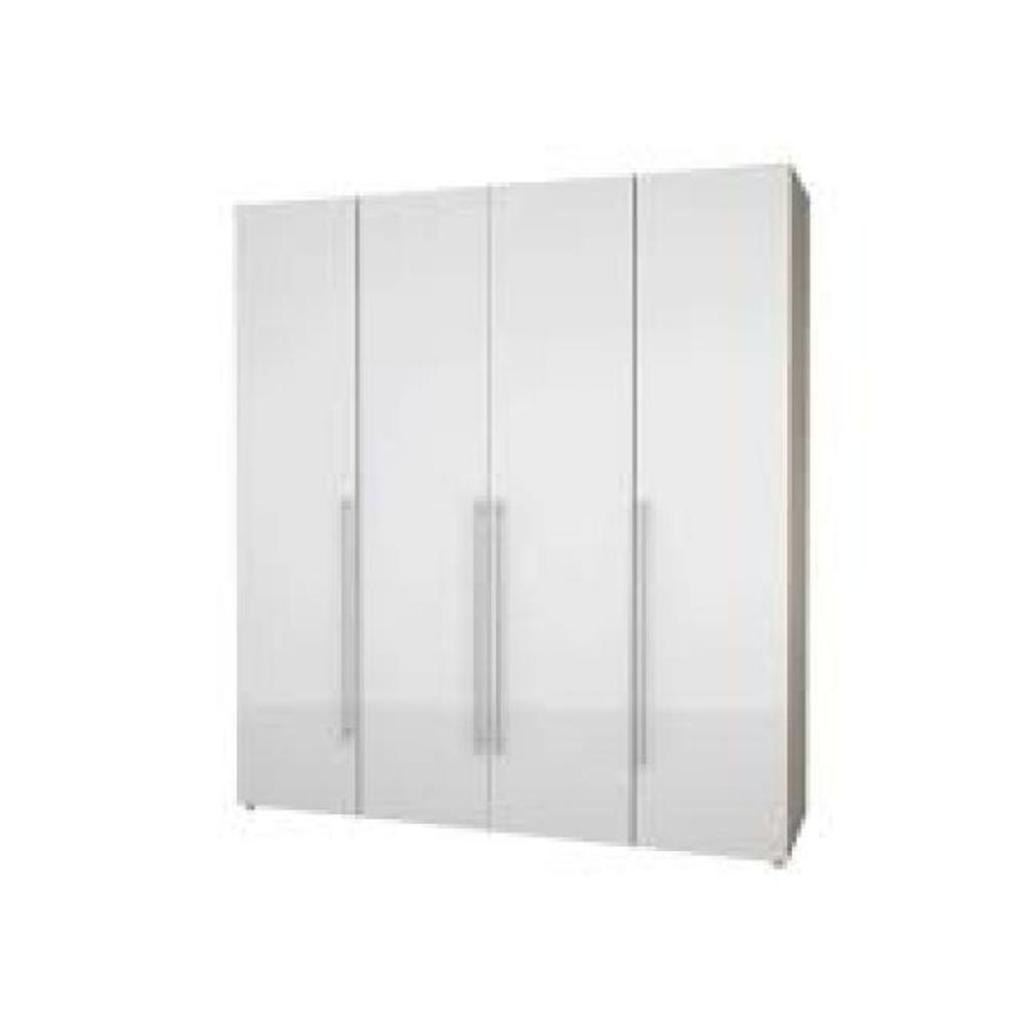cabinet: (236, 155, 818, 871)
